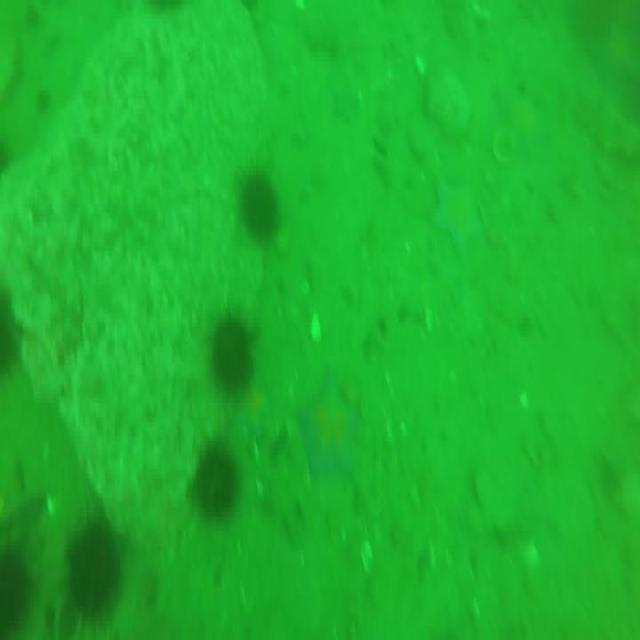echinus: (63, 504, 119, 615), (188, 438, 238, 520), (210, 306, 255, 394), (0, 532, 32, 640), (236, 166, 278, 240), (1, 278, 21, 373)
scallop: (492, 130, 518, 166), (520, 540, 541, 569)
starfish: (294, 374, 361, 479), (429, 180, 481, 255)
